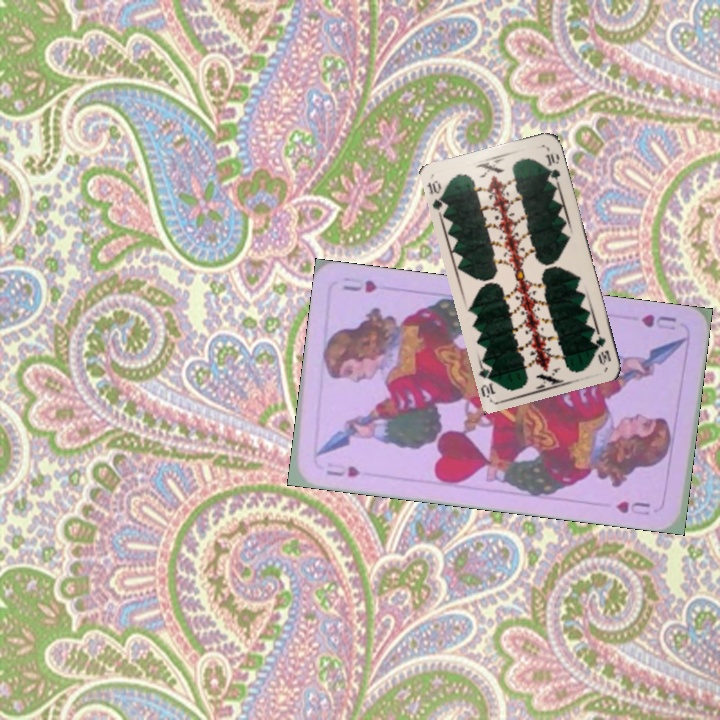G10: (424, 176, 450, 216), (589, 327, 614, 368)
HU: (637, 310, 679, 333), (322, 461, 363, 480)
